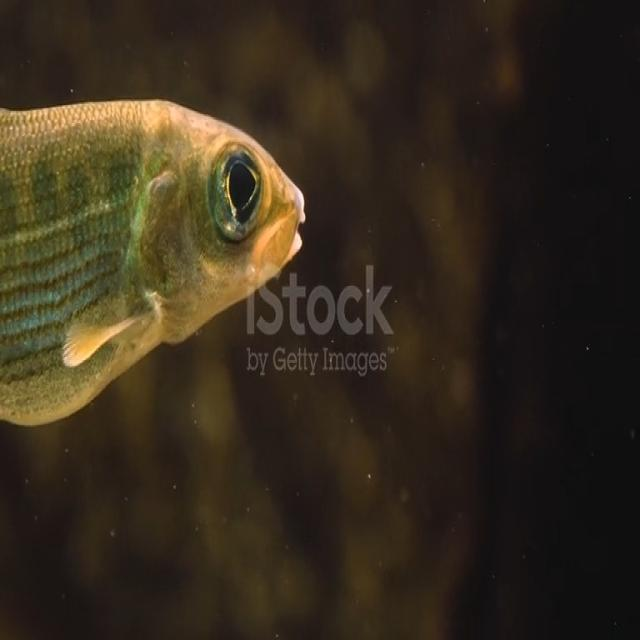fish: (0, 95, 311, 434)
